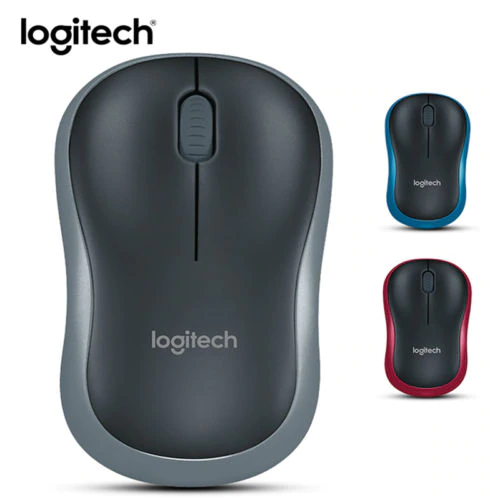logitech-mouse-m185: (50, 54, 332, 485), (380, 88, 474, 232), (383, 258, 472, 399)
